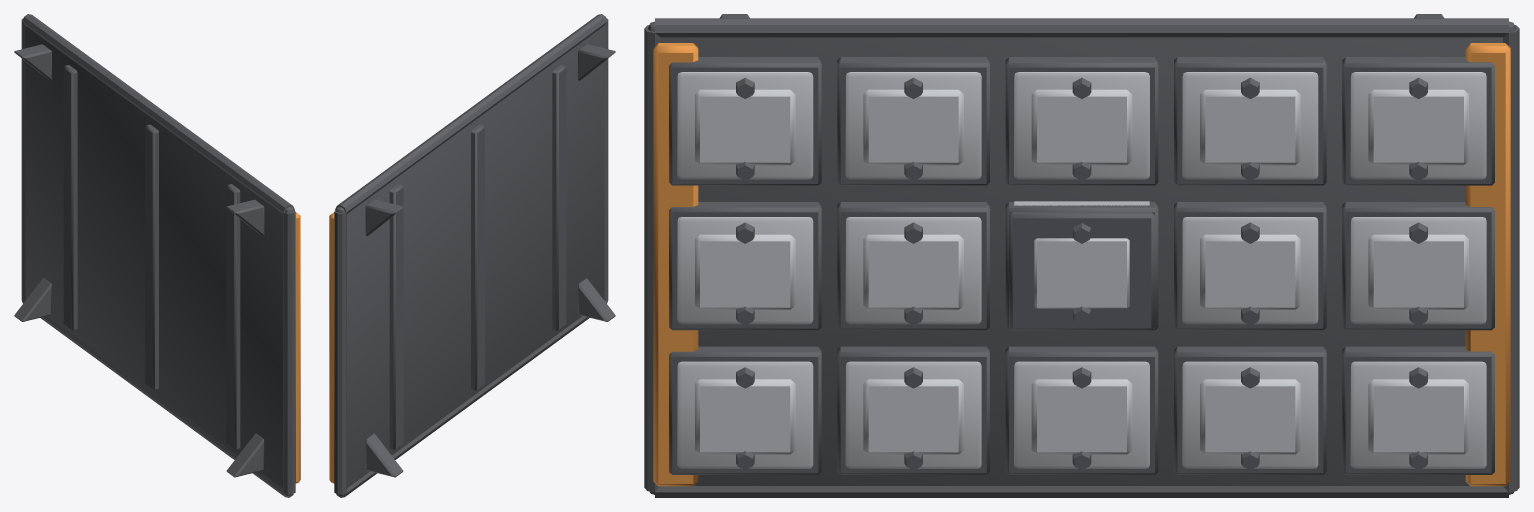
The model's file is plate_flat_reactive.glb.
The picture shows the model from 3 angles, left to right: view 1: azimuth 30°, elevation 25°; view 2: azimuth 150°, elevation 25°; view 3: azimuth 270°, elevation 25°; orthographic projection. The views are drawn at different scales.
Visible parts, largest first — view 1: body; view 2: body; view 3: body.
Boxes of the visible parts, x1=… form: body: x1=14, y1=14, x2=300, y2=497; body: x1=329, y1=14, x2=615, y2=497; body: x1=644, y1=14, x2=1519, y2=497.
Bounding box in the file's own units: 0.0632 × 0.3044 × 0.5044.
